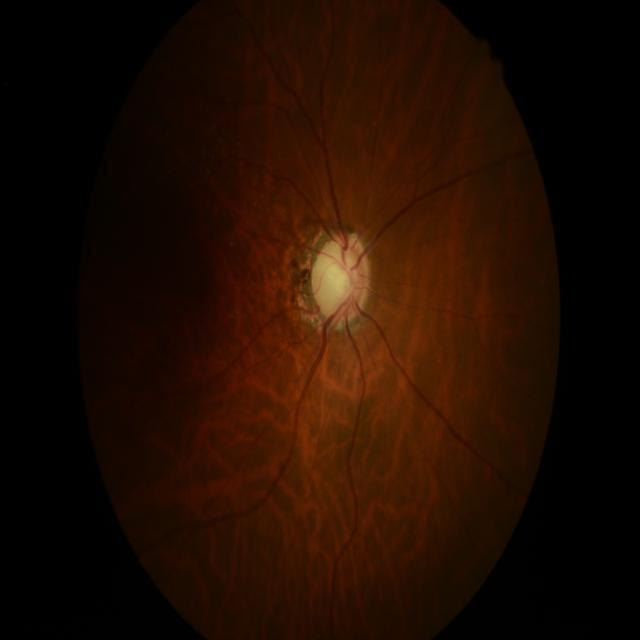cup: (319, 243, 363, 314)
disk: (312, 232, 371, 324)
